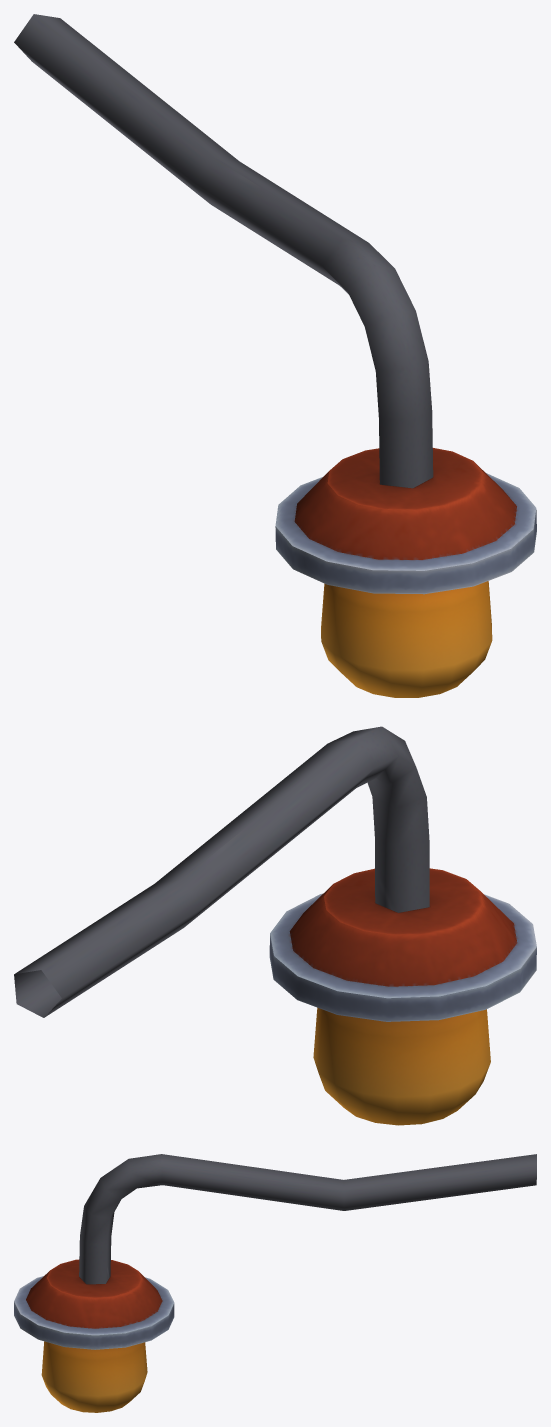
Rendered from env_hideout_lamplight.fbx.
3 renders of one model, top to bottom at view 1: azimuth 30°, elevation 25°; view 2: azimuth 150°, elevation 25°; view 3: azimuth 270°, elevation 25°, orthographic. The views are drawn at different scales.
Visible parts, largest first — view 1: lamplight; view 2: lamplight; view 3: lamplight.
Boxes of the visible parts, box(x1,y1,x2,y2) form: lamplight: box(14, 14, 536, 697); lamplight: box(14, 726, 536, 1125); lamplight: box(14, 1154, 536, 1412).
Size of the model in its own units: 5.18 by 8.79 by 16.86.
